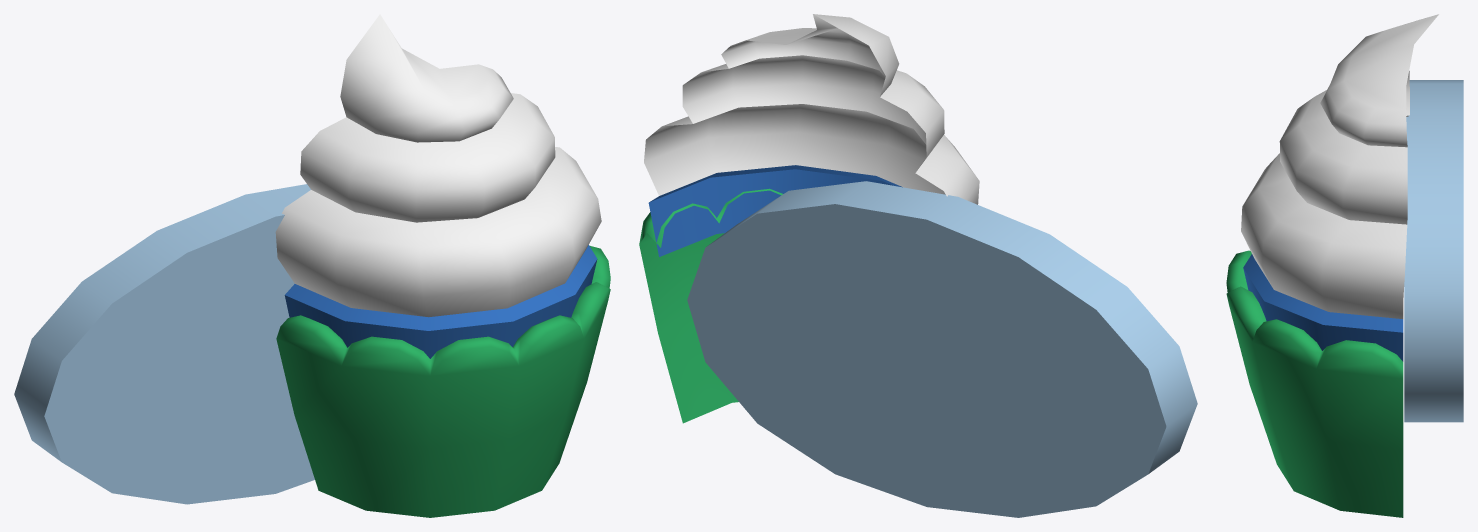
The model's file is shop01_upgrade1_s03.FBX.
3 renders of one model, left to right at view 1: azimuth 30°, elevation 25°; view 2: azimuth 150°, elevation 25°; view 3: azimuth 270°, elevation 25°, orthographic. The views are drawn at different scales.
Visible parts, largest first — view 1: shop01_upgrade1_s03; view 2: shop01_upgrade1_s03; view 3: shop01_upgrade1_s03.
Part boxes in pixels (x1,y1,x2,y2): shop01_upgrade1_s03: [14, 14, 610, 517]; shop01_upgrade1_s03: [639, 14, 1197, 517]; shop01_upgrade1_s03: [1226, 14, 1463, 517].
Size of the model in its own units: 283 by 109 by 222.
Materials: 1 (1 with a texture image).
